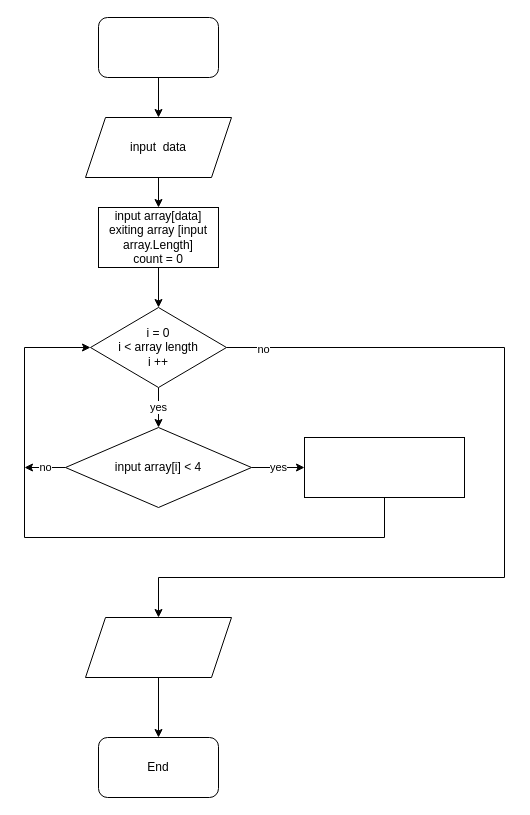
The diagram is 530 pixels wide and 815 high, and some of its shapes have lost their labels. Each missing label, with the centre of its shape:
"exiting array [string]" goes at pixel 158 647.
"input array[i] = exiting array [count] count ++" goes at pixel 384 467.
"Start" goes at pixel 158 47.
